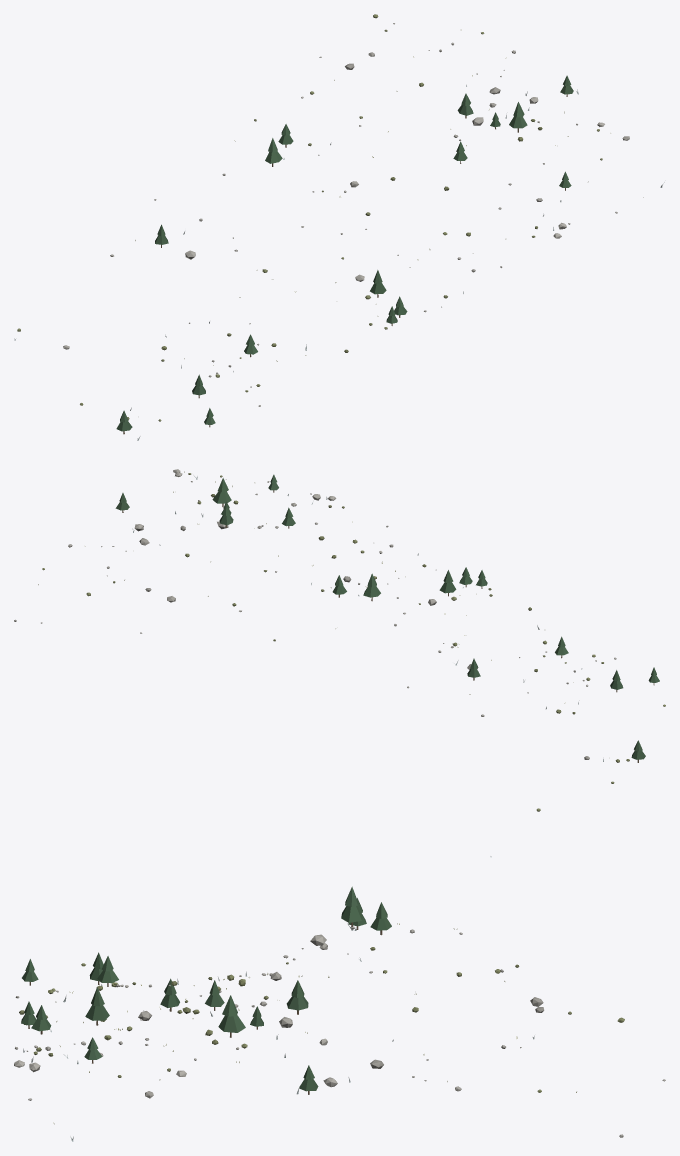
The model's file is coast_land_scatter_c10_15_lod1.glb.
3 renders of one model, top to bottom at view 1: azimuth 30°, elevation 25°; view 2: azimuth 150°, elevation 25°; view 3: azimuth 270°, elevation 25°, orthographic. The views are drawn at different scales.
Visible parts, largest first — view 1: coast_land_scatter_c10_15_lod1; view 2: coast_land_scatter_c10_15_lod1; view 3: coast_land_scatter_c10_15_lod1.
Part boxes in pixels (bbox=[...]): coast_land_scatter_c10_15_lod1: bbox=[14, 14, 664, 440]; coast_land_scatter_c10_15_lod1: bbox=[14, 469, 665, 857]; coast_land_scatter_c10_15_lod1: bbox=[14, 886, 665, 1141].
Size of the model in its own units: 256 by 106 by 204.
